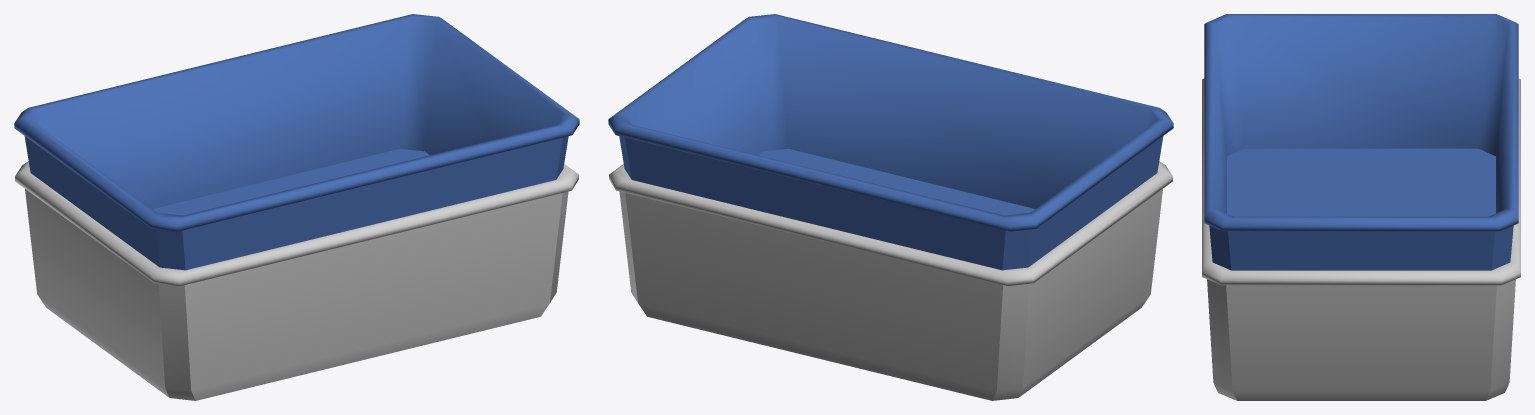
Rendered from SM_Tray_02.fbx.
3 views of the same model, side by side, from view 1: azimuth 30°, elevation 25°; view 2: azimuth 150°, elevation 25°; view 3: azimuth 270°, elevation 25° (orthographic).
Visible parts, largest first — view 1: SM_Tray_02; view 2: SM_Tray_02; view 3: SM_Tray_02.
Boxes of the visible parts, box(x1,y1,x2,y2) form: SM_Tray_02: box(14, 14, 579, 400); SM_Tray_02: box(608, 14, 1173, 400); SM_Tray_02: box(1202, 14, 1520, 400).
Size of the model in its own units: 33.26 by 14.1 by 21.29.
